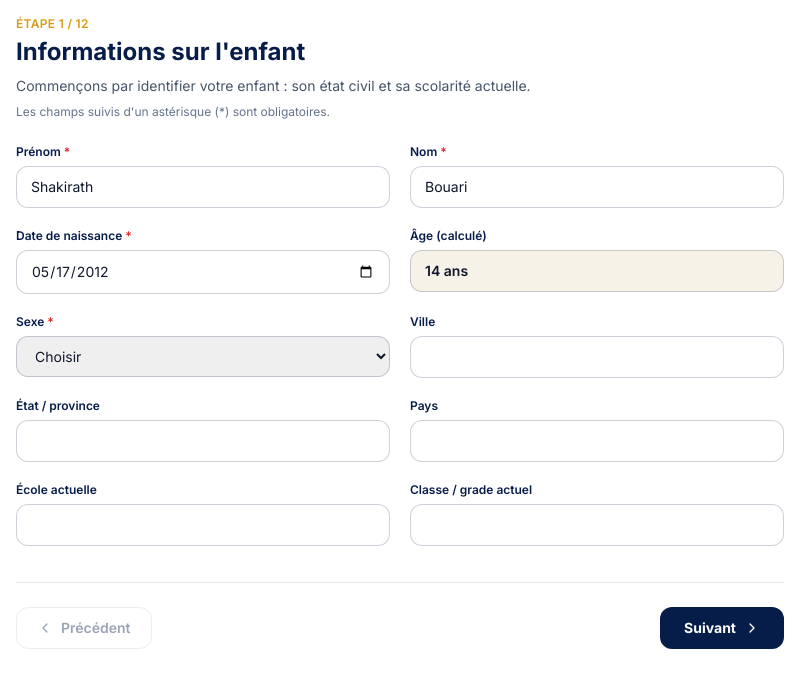
Test: Fiche FHA - sexe de l'enfant › un brouillon antérieur au champ (clé absente) est repris sans valeur inventée
The image size is (801, 685).
(page scrolled)
Expected: the dropdown with test id "child-gender" shows "Choisir", [16,336,390,377]
Expected: the field showing "Shakirath" is shown, [16,166,390,208]
… mais la famille doit choisir avant de continuer.
Click the button "Suivant" at [722, 628], box [660,607,784,649]
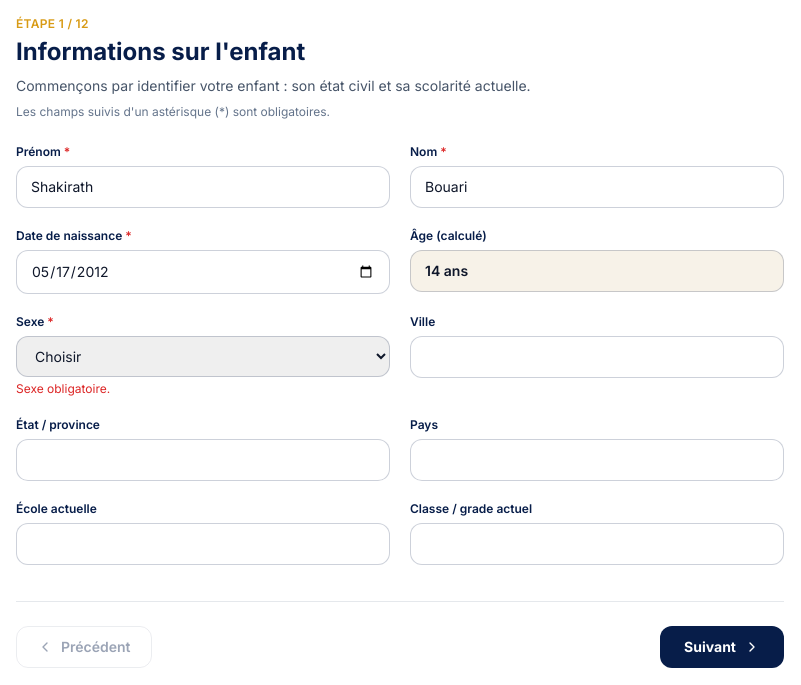
Result: the text "Sexe obligatoire." is shown at [16,381,110,396]
